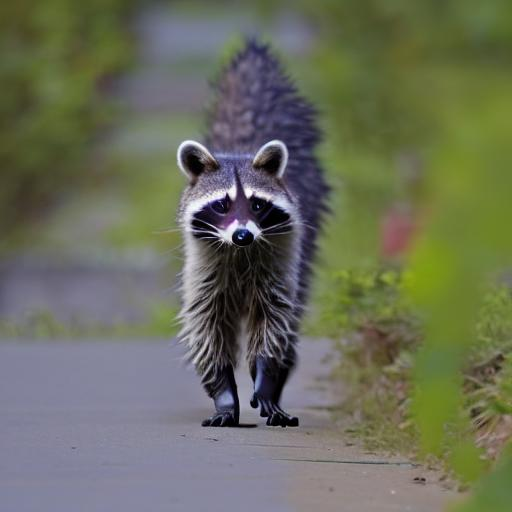raccoon: (170, 135, 307, 374)
